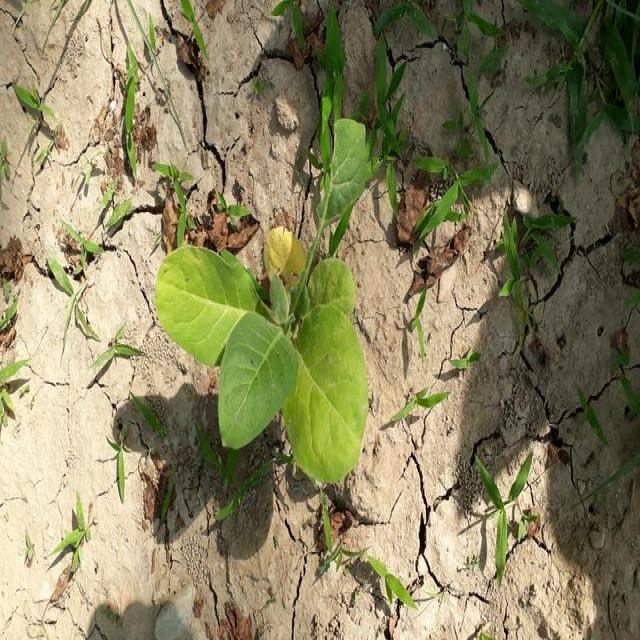crop: (156, 122, 380, 485)
